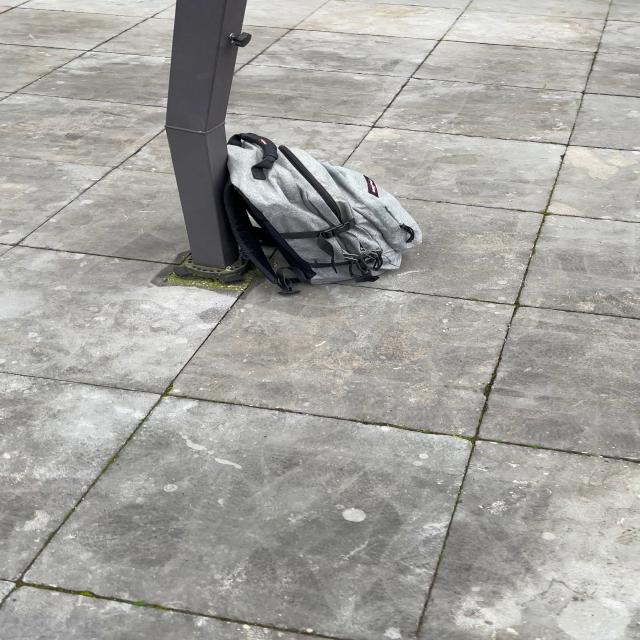backpack: (215, 128, 429, 295)
